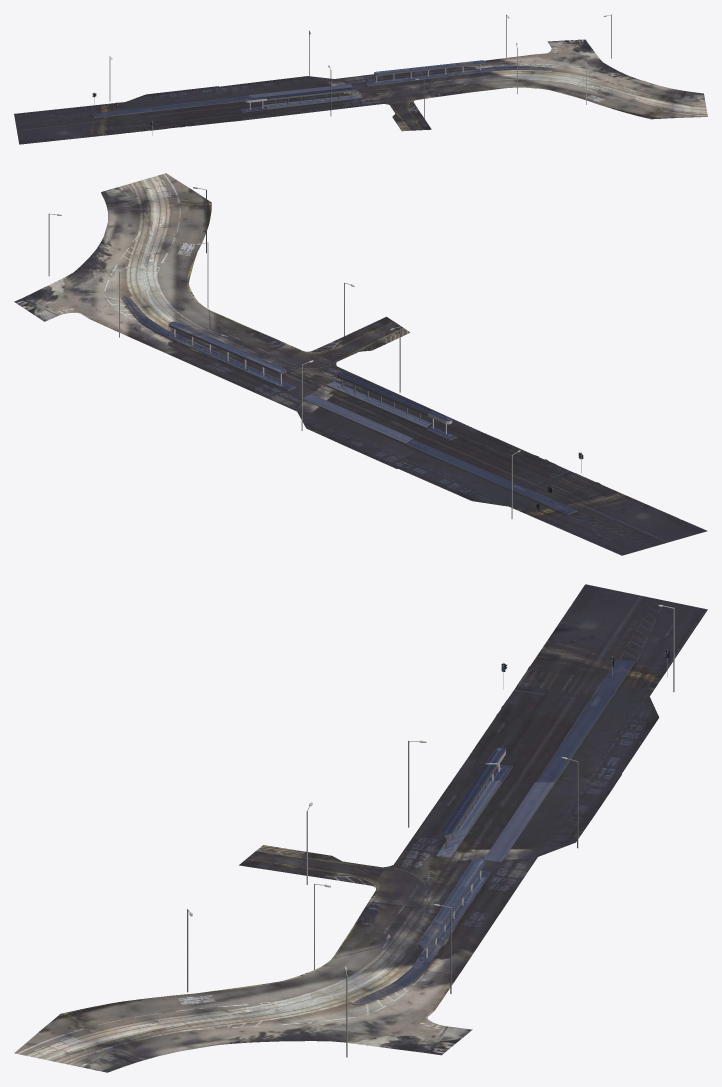
Rendered from bank-street.glb.
3 views of the same model, one above another, from view 1: azimuth 30°, elevation 25°; view 2: azimuth 150°, elevation 25°; view 3: azimuth 270°, elevation 25° (orthographic). The views are drawn at different scales.
Parts seen in each view (by area): view 1: bank-street; view 2: bank-street; view 3: bank-street.
Part boxes in pixels (x1,y1,x2,y2): bank-street: (14, 14, 707, 144); bank-street: (14, 173, 707, 555); bank-street: (14, 584, 707, 1072).
Bounding box in the file's own units: 158 × 14.69 × 91.8.
Materials: 12 (12 with a texture image).
